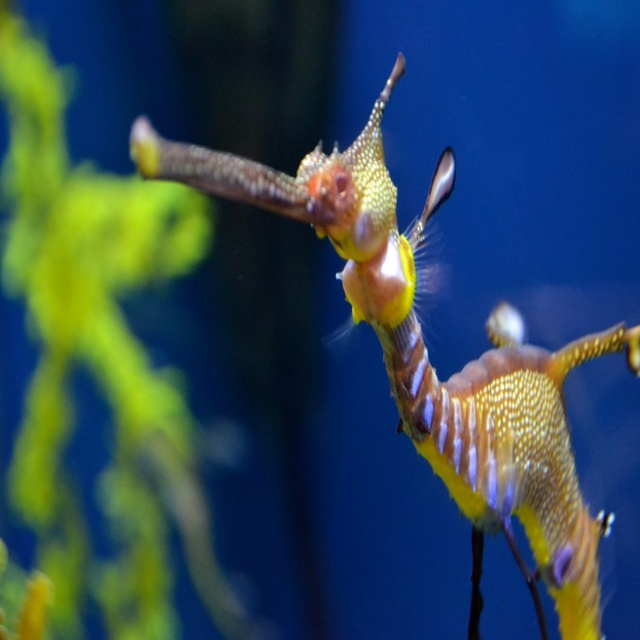Seahorse: (128, 52, 640, 639)
